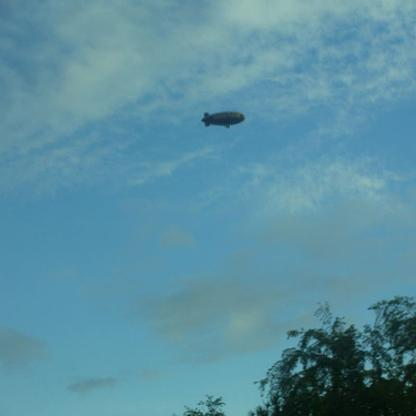Airship: (202, 109, 246, 135)
